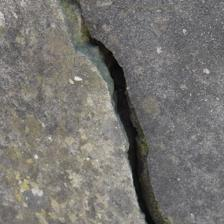Crack: (94, 36, 168, 222)
